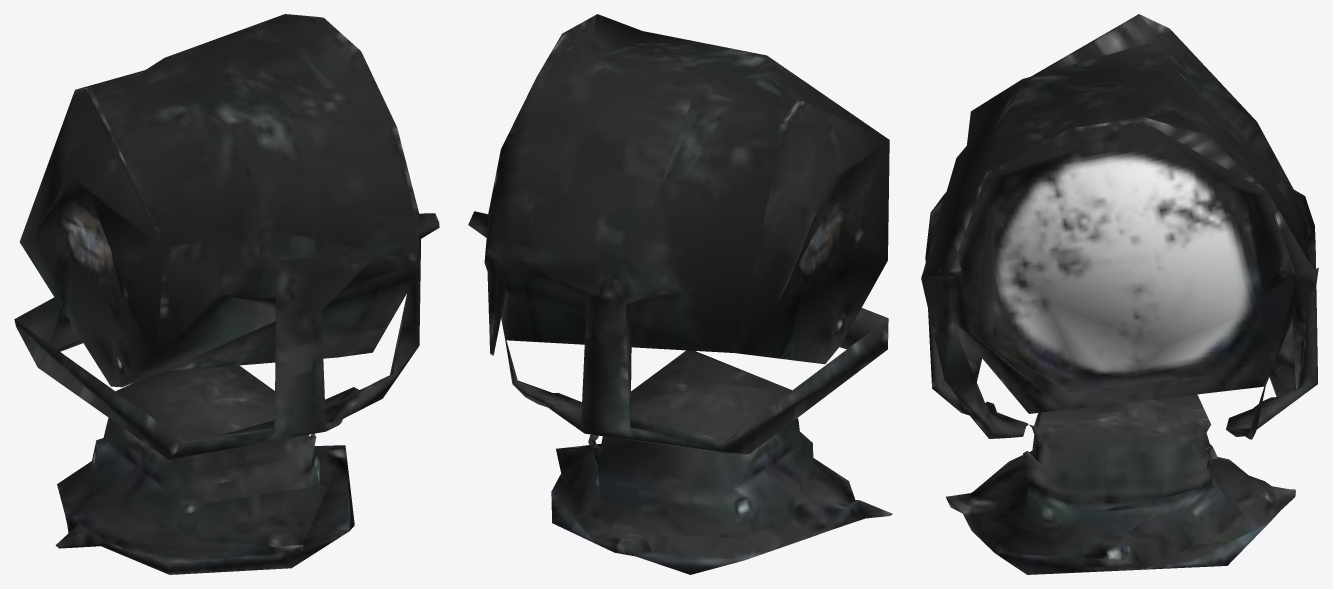
File: bw-searchlight.lod1.glb
3 views of the same model, side by side, from view 1: azimuth 30°, elevation 25°; view 2: azimuth 150°, elevation 25°; view 3: azimuth 270°, elevation 25° (orthographic).
Parts seen in each view (by area): view 1: mesh_base_material_0; view 2: mesh_base_material_0; view 3: mesh_base_material_0.
Part boxes in pixels (box(x1,y1,x2,y2)): mesh_base_material_0: box(14, 14, 439, 574); mesh_base_material_0: box(468, 14, 892, 574); mesh_base_material_0: box(921, 14, 1318, 574).
Bounding box in the file's own units: 0.9382 × 1.29 × 0.9924.
Materials: 1 (1 with a texture image).
